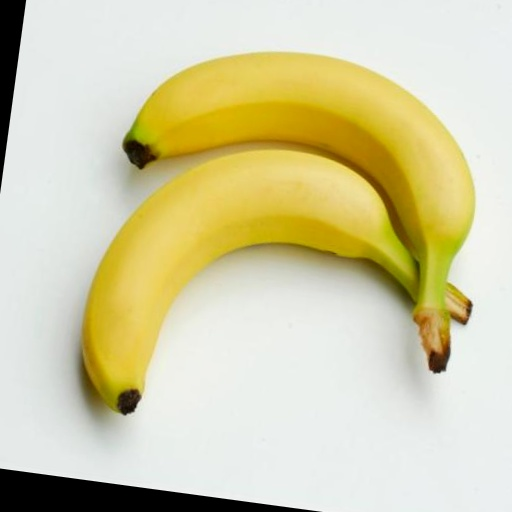fruit: (123, 52, 473, 371), (82, 150, 418, 413)
